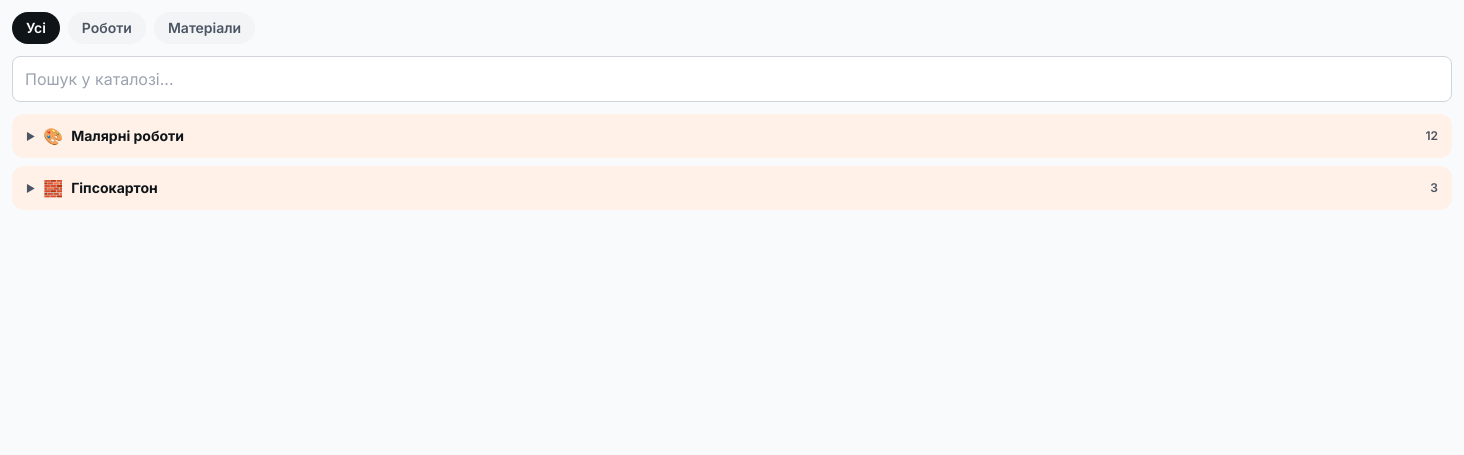
Test: CatalogPicker — trade is the top level › a big multi-trade catalog opens on the TRADES, and one tap opens one trade
Click the button with test id "catalog-trade" showing "▶ 🧱 Гіпсокартон 3": click(114, 188) [12, 166, 1452, 210]
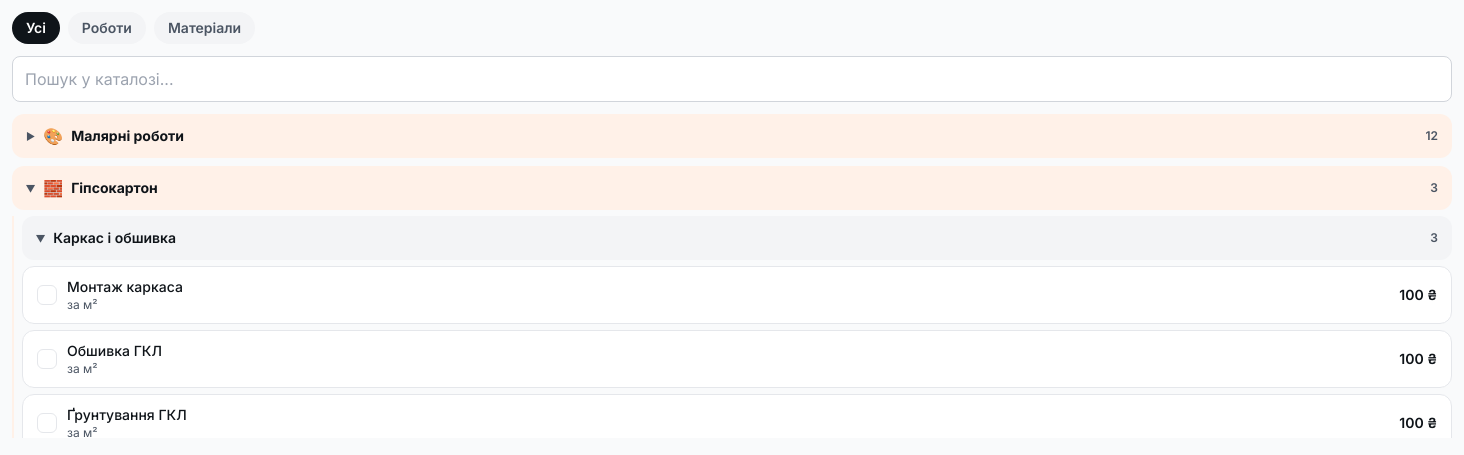
Now the number of buttons with test id "catalog-category" is 1, box [22, 216, 1452, 260]
Now the text "Каркас і обшивка" is shown, box [53, 229, 176, 246]
